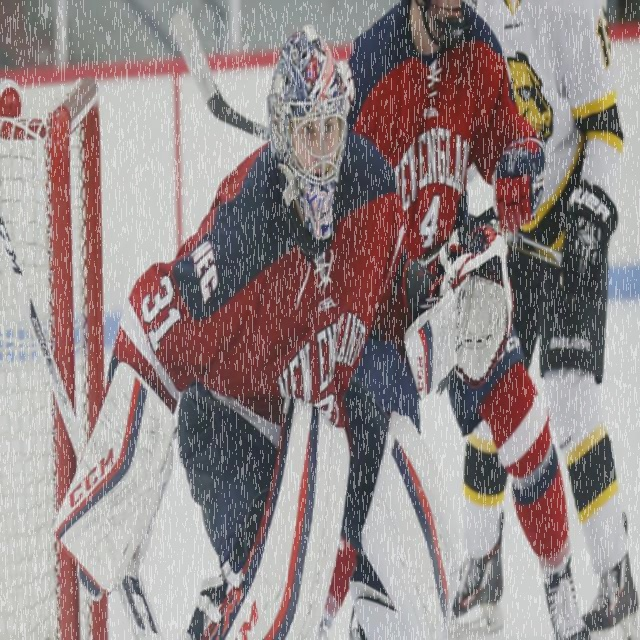pessoa: (43, 16, 520, 639), (313, 0, 593, 639)
